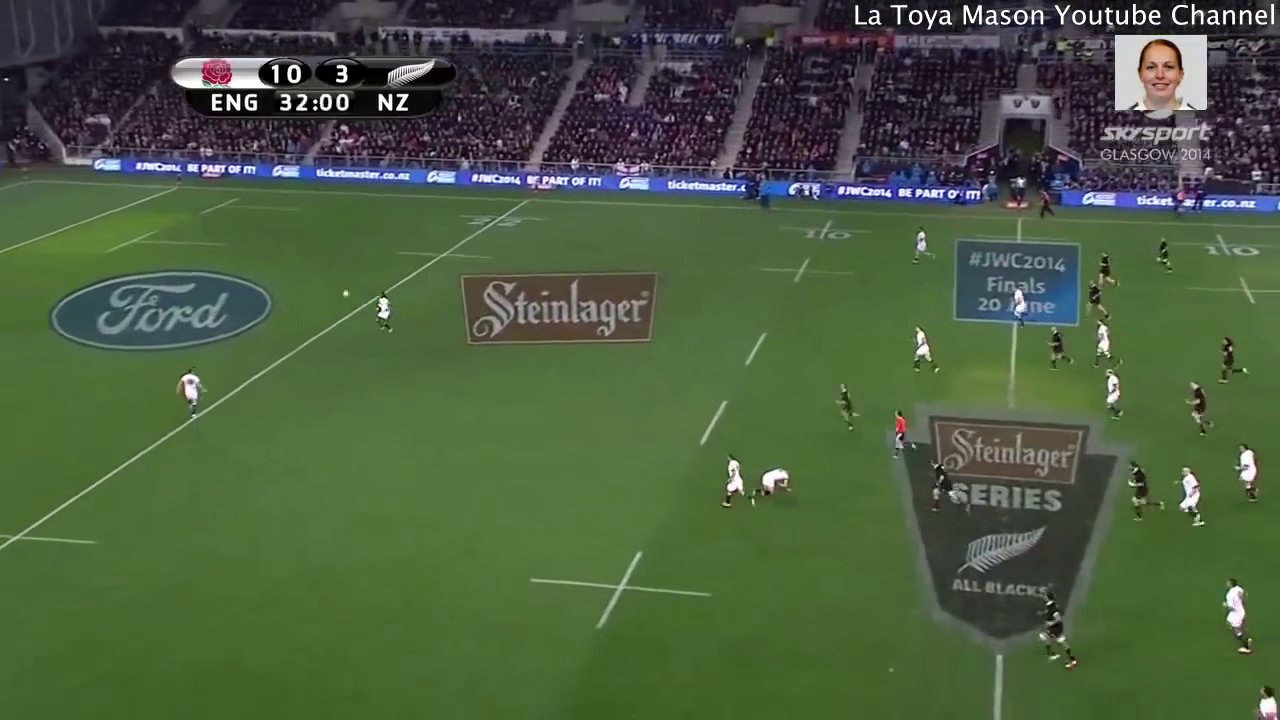10_metre: (526, 547, 723, 637), (751, 252, 857, 286), (1182, 274, 1280, 307), (1167, 230, 1280, 255), (774, 215, 874, 243)
ball: (339, 282, 352, 301)
player: (1026, 586, 1078, 672), (1214, 574, 1259, 661), (923, 452, 978, 520), (1125, 457, 1166, 526), (903, 319, 947, 381), (1170, 465, 1211, 531), (717, 448, 757, 513), (1229, 438, 1265, 507), (828, 374, 866, 435), (173, 364, 209, 427), (745, 463, 797, 506), (1182, 378, 1218, 438), (1088, 316, 1125, 374), (886, 404, 921, 465), (1215, 334, 1252, 391), (1043, 322, 1077, 379), (1080, 276, 1115, 325), (1003, 282, 1034, 333), (906, 223, 938, 270), (1101, 369, 1128, 423), (1092, 250, 1124, 293), (1249, 677, 1280, 720), (372, 286, 397, 339), (1151, 233, 1177, 278)
